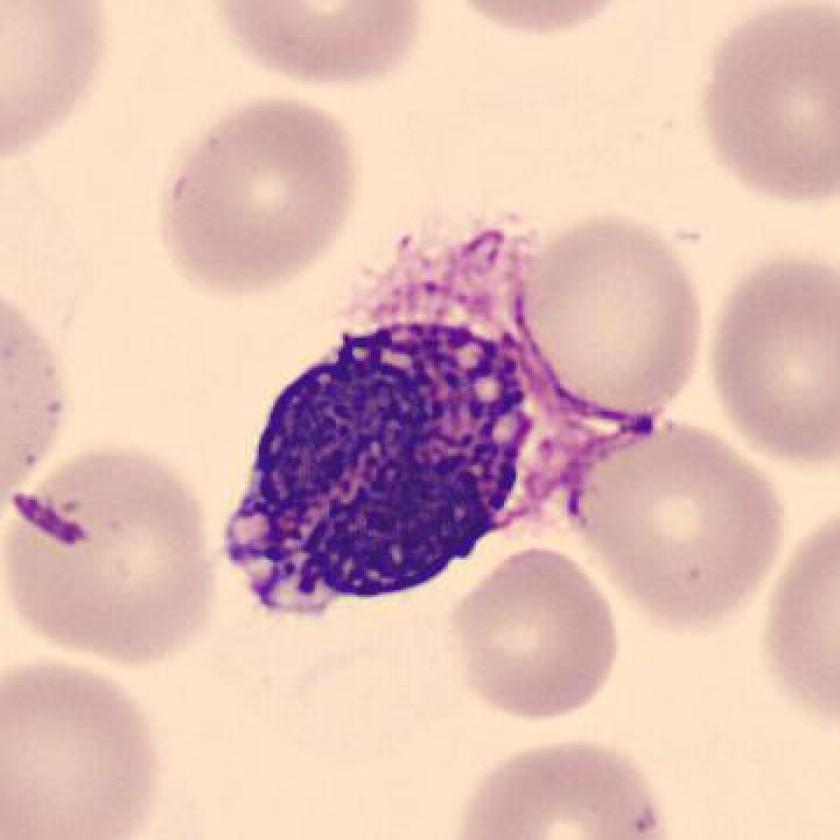basophil: (237, 316, 540, 610)
